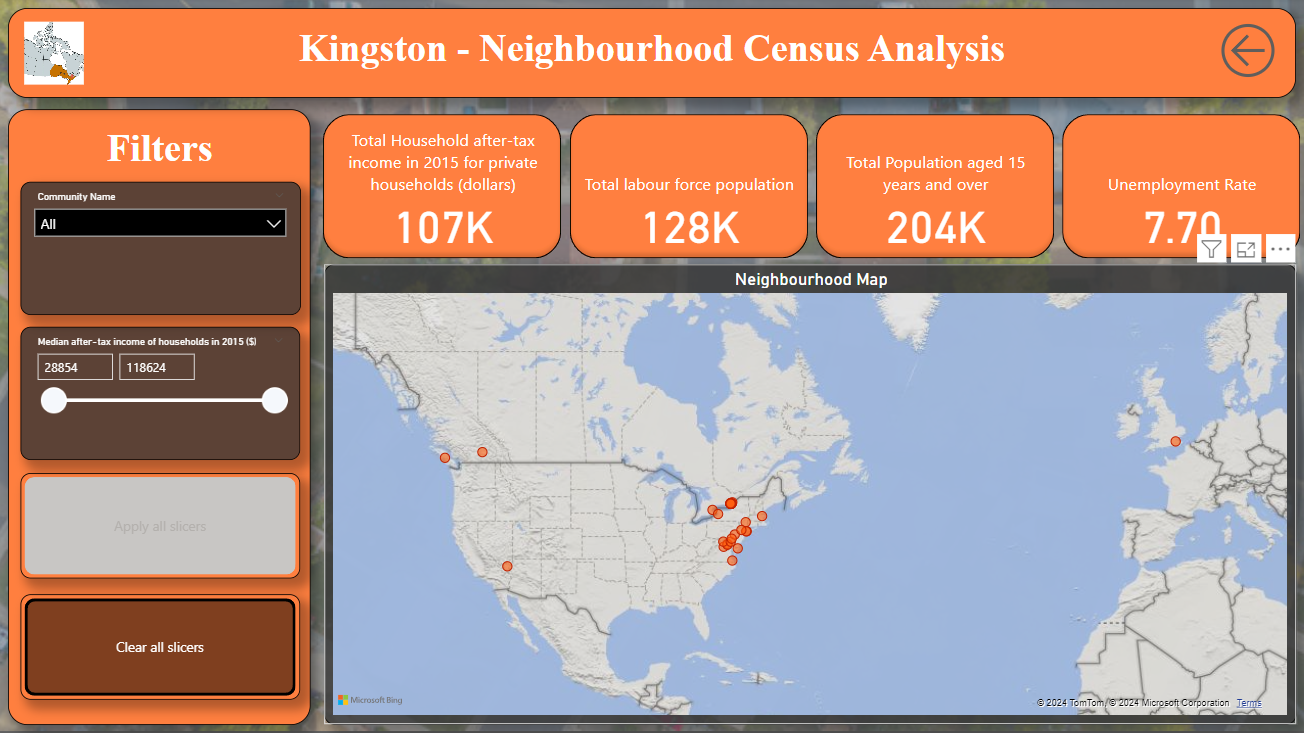

Layout of this report page (visuals, bound fields, positions):
{"tool":"powerbi","page":{"name":"Map","canvas":[1280,720],"ordinal":1},"visuals":[{"type":"shape","box":[9.6,108.4,296.4,602.4],"z":0},{"type":"shape","box":[9.6,9.6,1259.7,87.8],"z":1000},{"type":"textbox","box":[10,22,1260,62],"z":2000},{"type":"textbox","box":[35.7,119.4,245.6,71.4],"z":3000},{"type":"cardVisual","title":"Kingston -Card (new)","fields":{"Data":["Sum(Feuil1.Total - Household after-tax income groups in 2015 for private households (dollars))","Sum(Feuil1.Total - Labour force population by occupation (NOC))","Sum(Feuil1.Total - Population aged 15 years and over by Labour force status)","Avg(Feuil1.Unemployment rate)"]},"box":[313.2,108.5,966.3,151.5],"z":8000},{"type":"map","title":"Neighbourhood Map","fields":{"Category":["Feuil1.Community Name"]},"box":[318.6,260,951.4,450],"z":9000},{"type":"slicer","title":"Household after-tax income groups for private households (dollars) vs Community (2015) - Kingston","fields":{"Values":["Feuil1.Median after-tax income of households in 2015 (dollars)"]},"box":[21.7,321.7,273.3,130],"z":11000},{"type":"actionButton","box":[21.7,465,273.3,103.3],"z":12000},{"type":"actionButton","box":[21.7,583.3,273.3,103.3],"z":13000},{"type":"image","box":[21.3,18.3,68.5,71.6],"z":14000},{"type":"slicer","title":"Household after-tax income groups for private households (dollars) vs Community (2015) - Kingston","fields":{"Values":["Feuil1.Community Name"]},"box":[22,180,274,130],"z":16000},{"type":"actionButton","box":[1190,18,80,66],"z":17000}]}

Visuals, with their boxes in screenshot pixels (x1, y1, x2, y2), scaled from the page's 1280x720 canvas onto the 1304x733 screenshot:
shape: [10,110,312,724]
shape: [10,10,1293,99]
textbox: [10,22,1294,86]
textbox: [36,122,287,194]
"Kingston -Card (new)" cardVisual: [319,110,1303,265]
"Neighbourhood Map" map: [325,265,1294,723]
"Household after-tax income groups for private households (dollars) vs Community (2015) - Kingston" slicer: [22,328,301,460]
actionButton: [22,473,301,579]
actionButton: [22,594,301,699]
image: [22,19,91,92]
"Household after-tax income groups for private households (dollars) vs Community (2015) - Kingston" slicer: [22,183,302,316]
actionButton: [1212,18,1294,86]
